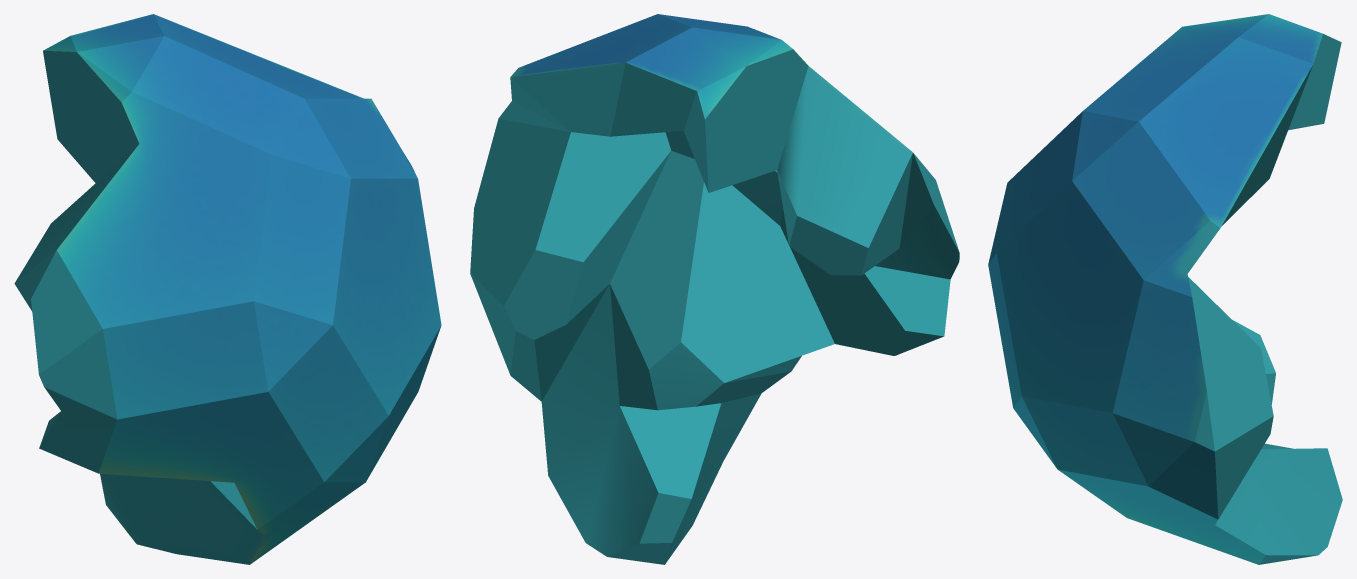
The model's file is p_mesh_quartz_part07.fbx.
3 renders of one model, left to right at view 1: azimuth 30°, elevation 25°; view 2: azimuth 150°, elevation 25°; view 3: azimuth 270°, elevation 25°, orthographic. The views are drawn at different scales.
Visible parts, largest first — view 1: p_quartz_part07_lp; view 2: p_quartz_part07_lp; view 3: p_quartz_part07_lp.
Part boxes in pixels (left/top/right/bottom): p_quartz_part07_lp: left=14, top=14, right=441, bottom=564; p_quartz_part07_lp: left=470, top=14, right=959, bottom=564; p_quartz_part07_lp: left=988, top=14, right=1342, bottom=564.
Bounding box in the file's own units: 4.31 × 4.93 × 3.15.
